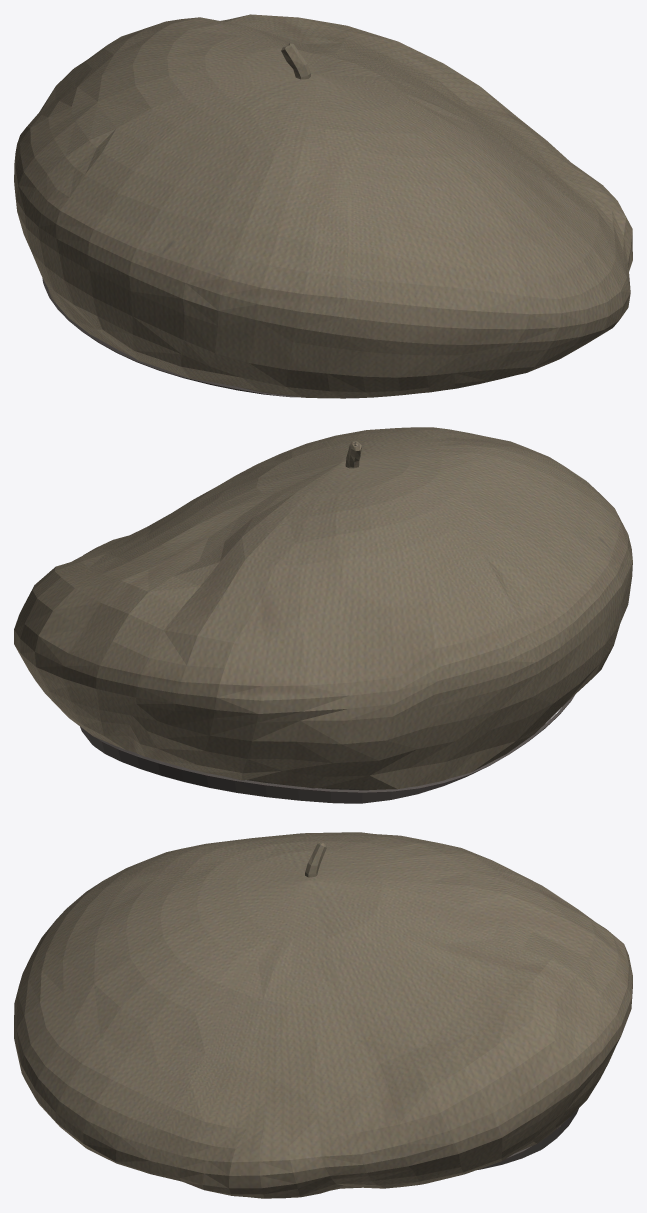
File: beregray.fbx
3 renders of one model, top to bottom at view 1: azimuth 30°, elevation 25°; view 2: azimuth 150°, elevation 25°; view 3: azimuth 270°, elevation 25°, orthographic. The views are drawn at different scales.
Visible parts, largest first — view 1: node_id5; view 2: node_id5; view 3: node_id5.
Boxes of the visible parts, x1,y1,x2,y2 form: node_id5: (14, 14, 632, 398); node_id5: (14, 427, 632, 803); node_id5: (14, 832, 632, 1198).
Bounding box in the file's own units: 0.512 × 0.2401 × 0.5616.
1 material, 1 textured.
